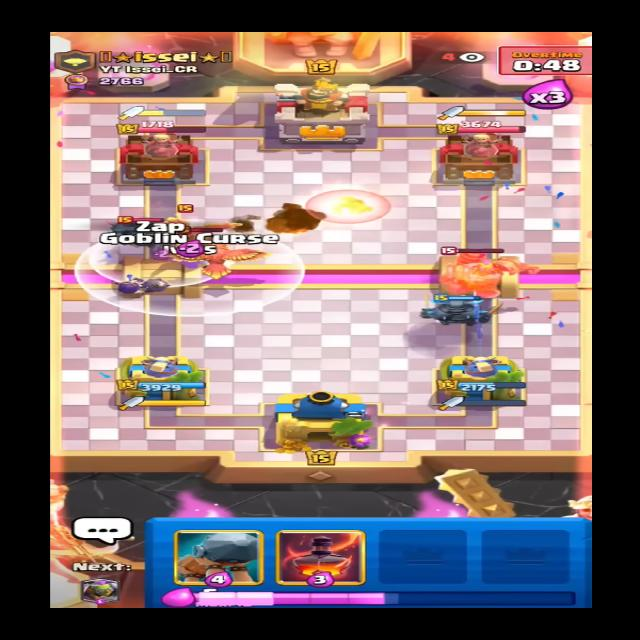goblin-machine: (426, 251, 528, 301)
pekka: (103, 204, 188, 244)
phoenix: (143, 206, 235, 252)
